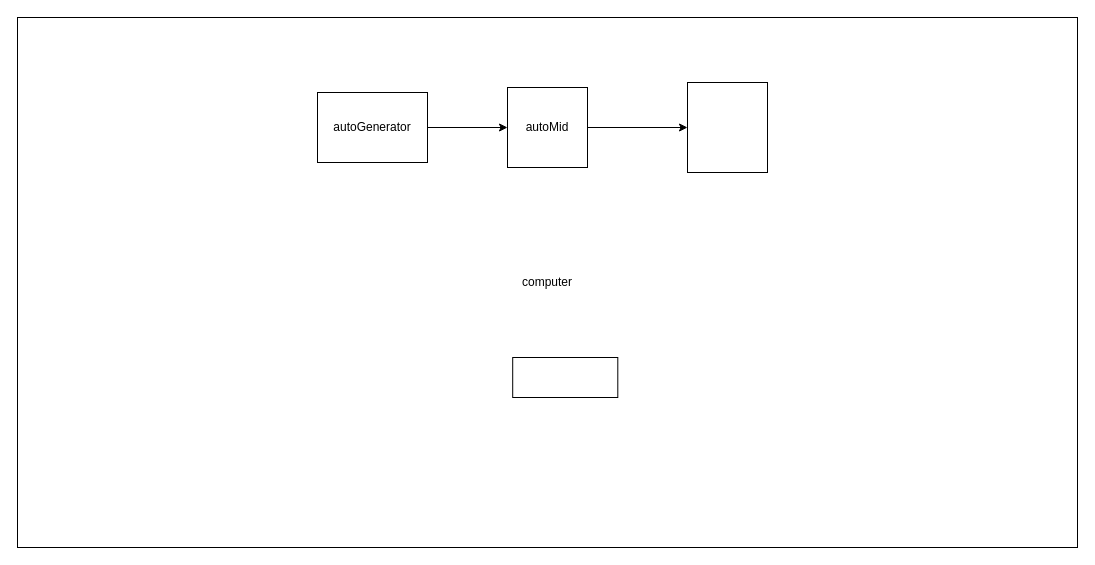
Image size: 1095x565. Some labels were removed from this diagram. The centre of each missing label's shape, as x and y in pixels:
autoSink: (x=727, y=127)
config#{"ip": "192.168.87.35"}: (x=565, y=377)
